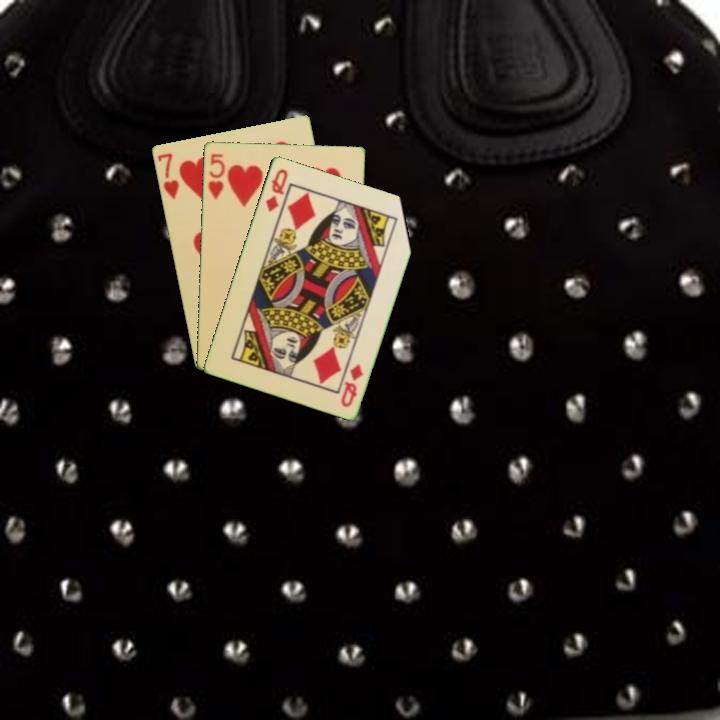5h: (204, 150, 227, 202)
7h: (154, 149, 182, 202)
Qd: (262, 165, 291, 214), (337, 360, 365, 410)
